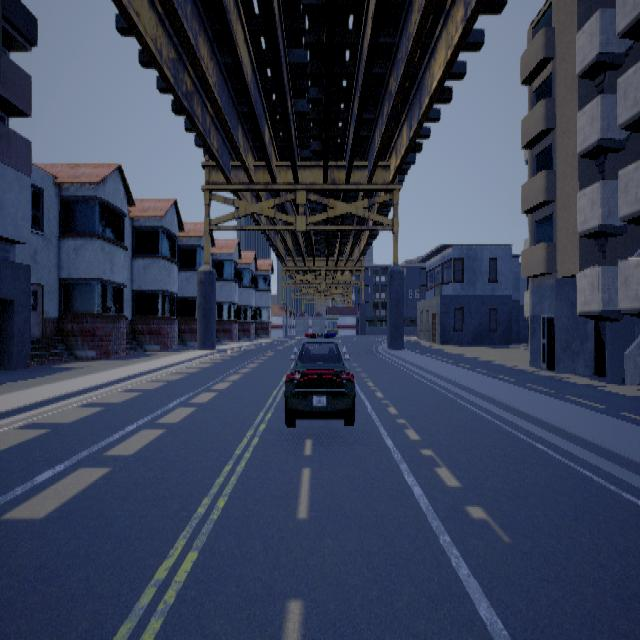vehicle: (283, 332, 355, 426)
